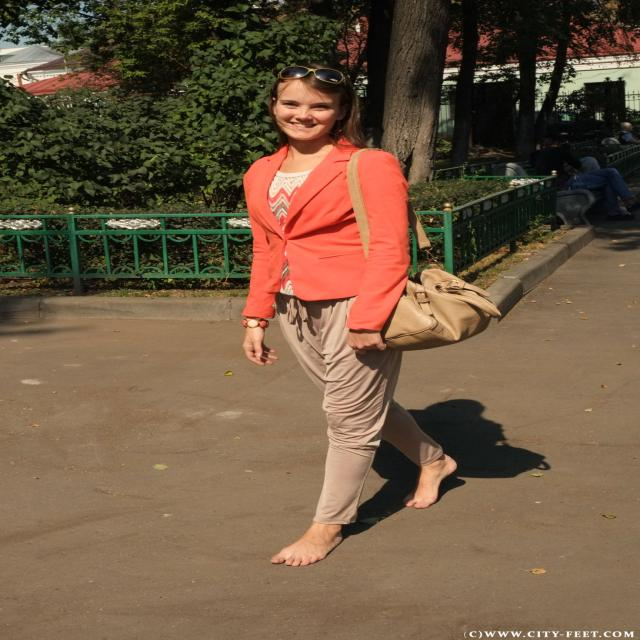Barefoots: (402, 454, 458, 508), (270, 526, 343, 566)
